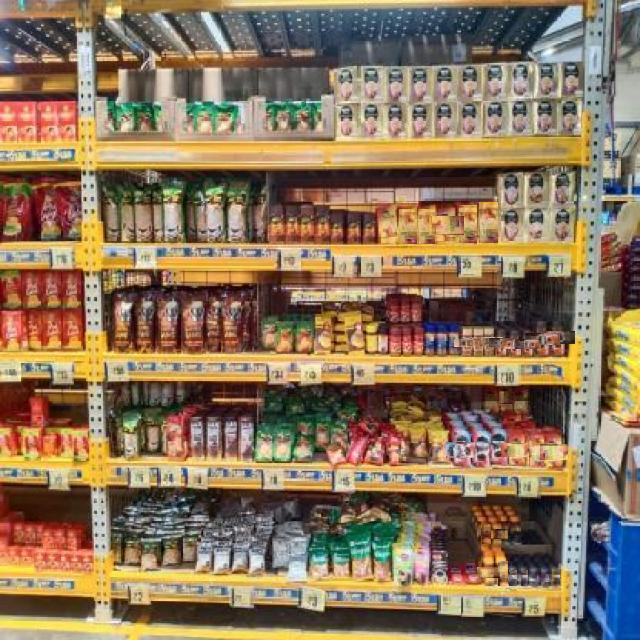Coffee: (478, 202, 498, 243), (458, 205, 477, 243), (378, 208, 397, 244), (398, 208, 417, 244), (429, 216, 464, 235), (418, 208, 435, 244), (446, 442, 478, 458), (475, 434, 491, 466), (491, 432, 506, 465), (528, 437, 544, 466), (540, 444, 568, 460), (502, 442, 531, 457), (526, 332, 559, 345), (542, 332, 575, 344), (514, 389, 529, 412), (485, 388, 499, 411), (495, 391, 518, 404), (476, 567, 503, 578), (497, 560, 508, 586), (501, 339, 527, 349), (464, 337, 491, 346), (476, 337, 503, 346), (454, 338, 480, 347), (487, 528, 508, 539), (516, 339, 539, 349), (489, 338, 514, 347), (481, 523, 491, 544), (536, 573, 553, 582), (520, 569, 528, 586), (509, 569, 517, 586), (530, 570, 538, 587), (551, 570, 560, 585)
